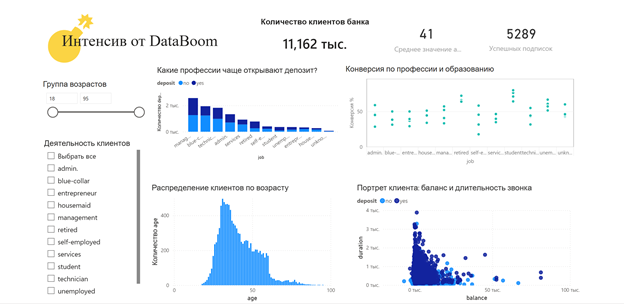

The page's visual inventory and layout, read from the dashboard file:
{"tool":"powerbi","page":{"name":"Page 1","canvas":[1280,720],"ordinal":0},"visuals":[{"type":"cardVisual","title":"Количество клиентов банка","fields":{"Data":["CountNonNull(Sheet1.age)"]},"box":[502.2,42.5,293.7,97.4],"z":0},{"type":"clusteredColumnChart","title":"Распределение клиентов по возрасту","fields":{"Y":["CountNonNull(Sheet1.age)"],"Category":["Sheet1.age"]},"box":[257.1,435.7,444.3,284.3],"z":1000},{"type":"columnChart","title":"Какие профессии чаще открывают депозит?","fields":{"Category":["Sheet1.job"],"Series":["Sheet1.deposit"],"Y":["CountNonNull(Sheet1.deposit)"]},"box":[270,157.1,440,227.1],"z":3000},{"type":"slicer","title":"Группа возрастов","fields":{"Values":["Sheet1.age groups"]},"box":[0,190,254.3,117.1],"z":4000},{"type":"slicer","title":"Деятельность клиентов","fields":{"Values":["Sheet1.job"]},"box":[2.9,330,237.1,377.1],"z":5000},{"type":"image","box":[0,34.3,141.4,115.7],"z":6000},{"type":"textbox","box":[44.3,71.4,391.4,60],"z":7000},{"type":"advanceCardE03760C5AB684758B56AA29F9E6C257B","title":"Успешные подписки","fields":{"mainMeasure":["Sheet1.Успешных подписок"]},"box":[1025.7,44.3,220,97.1],"z":8000},{"type":"scatterChart","title":"Портрет клиента: баланс и длительность звонка","fields":{"X":["Sheet1.balance"],"Y":["Sheet1.duration"],"Series":["Sheet1.deposit"]},"box":[742.9,435.7,537.1,284.3],"z":9000},{"type":"advanceCardE03760C5AB684758B56AA29F9E6C257B","title":"Средний возраст","fields":{"mainMeasure":["Avg(Sheet1.age)"]},"box":[819.2,43.9,192.1,97.4],"z":10000},{"type":"DotPlotByMAQ1823AB39DB234AB522063E728AD","title":"Конверсия по профессии и образованию","fields":{"category":["Sheet1.education"],"categoryGroup":["Sheet1.job"],"measure":["Sheet1.Конверсия %"]},"box":[715.7,154.3,551.4,247.1],"z":11000}]}

Visuals, with their boxes on the page's 1280x720 design canvas (x1, y1, x2, y2). These are canvas units, not pixel positions in the 624x304 screenshot, which may show the page scaled, cropped or inside an application window:
"Количество клиентов банка" cardVisual: bbox=[502, 42, 796, 140]
"Распределение клиентов по возрасту" clusteredColumnChart: bbox=[257, 436, 701, 720]
"Какие профессии чаще открывают депозит?" columnChart: bbox=[270, 157, 710, 384]
"Группа возрастов" slicer: bbox=[0, 190, 254, 307]
"Деятельность клиентов" slicer: bbox=[3, 330, 240, 707]
image: bbox=[0, 34, 141, 150]
textbox: bbox=[44, 71, 436, 131]
"Успешные подписки" advanceCardE03760C5AB684758B56AA29F9E6C257B: bbox=[1026, 44, 1246, 141]
"Портрет клиента: баланс и длительность звонка" scatterChart: bbox=[743, 436, 1280, 720]
"Средний возраст" advanceCardE03760C5AB684758B56AA29F9E6C257B: bbox=[819, 44, 1011, 141]
"Конверсия по профессии и образованию" DotPlotByMAQ1823AB39DB234AB522063E728AD: bbox=[716, 154, 1267, 401]
